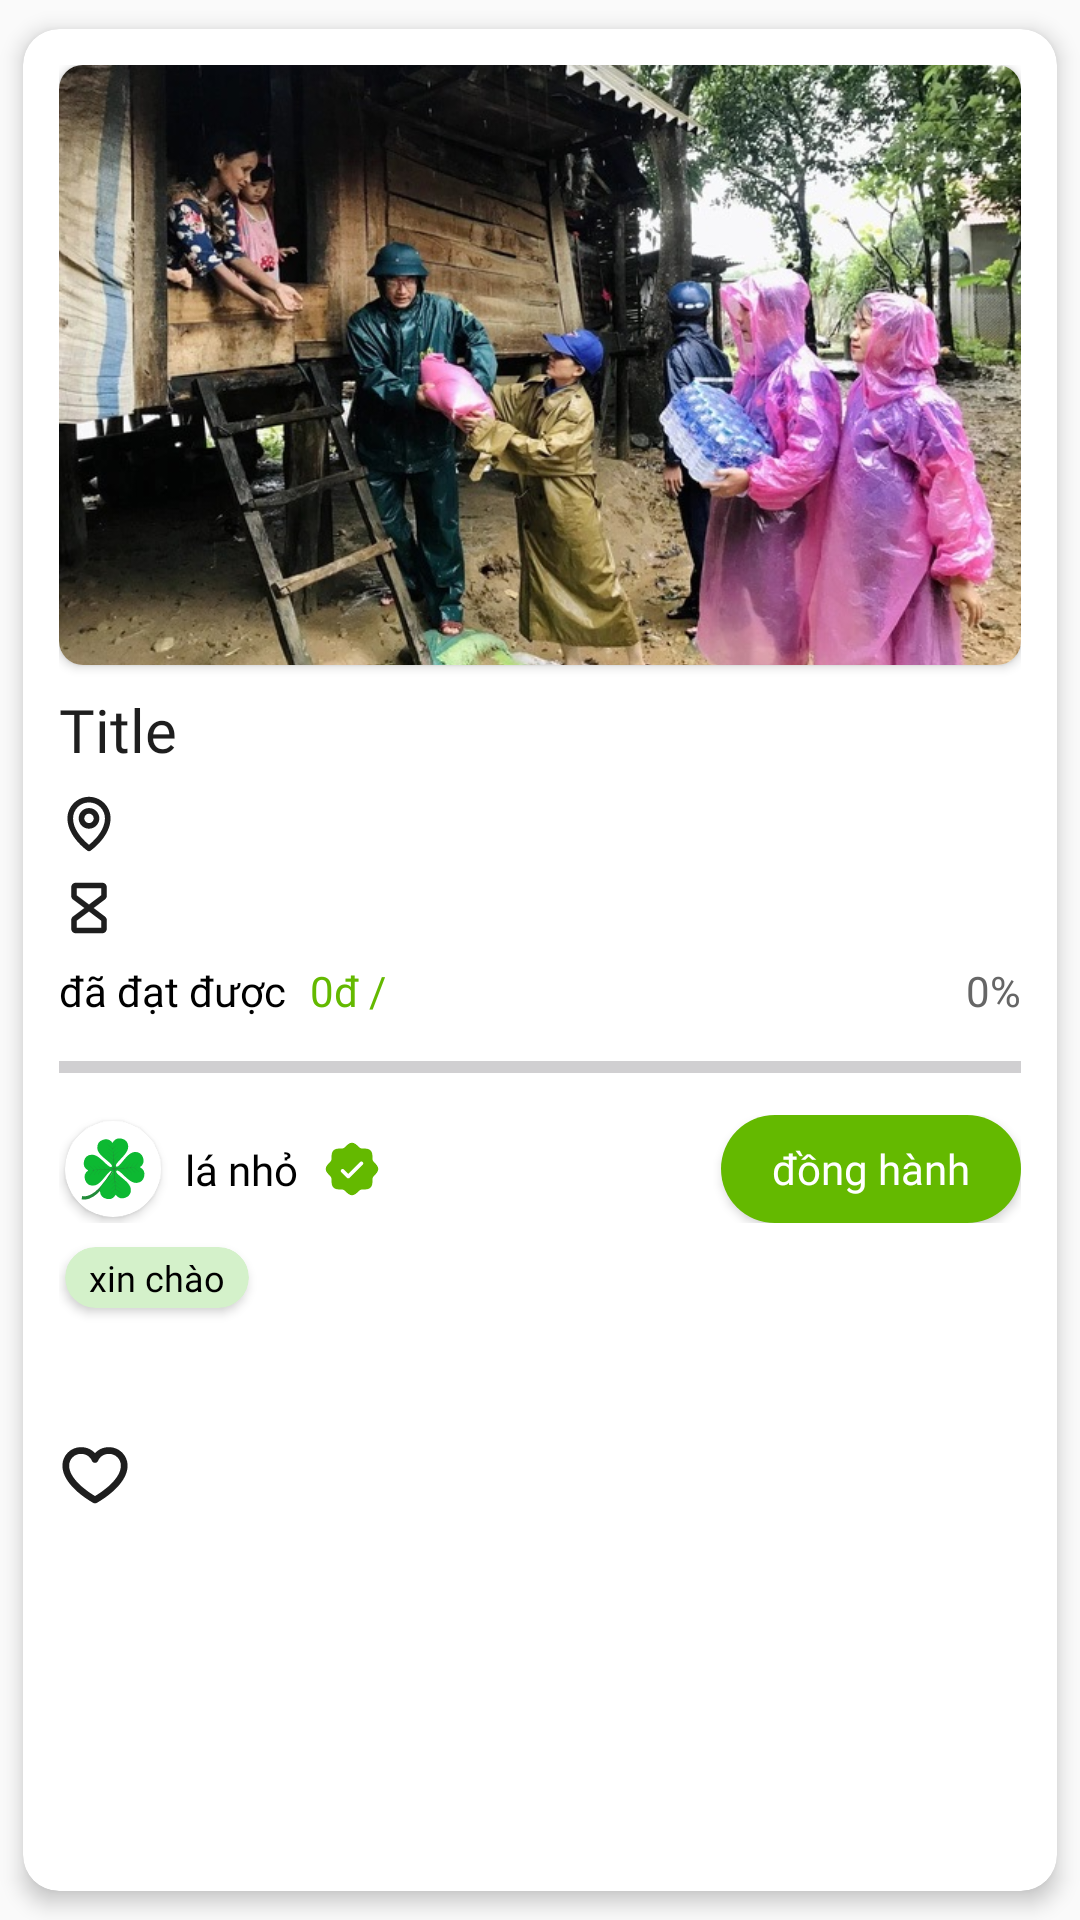

Named icons in this screenshot (1080×1920) and their bounding boxes, {"x1": x1, "y1": y1, "x2": x2, "y2": y2}:
cloversvg: {"x1": 65, "y1": 1138, "x2": 155, "y2": 1217}
heart: {"x1": 62, "y1": 1447, "x2": 128, "y2": 1504}
hourglass: {"x1": 71, "y1": 882, "x2": 107, "y2": 934}
mappin: {"x1": 67, "y1": 796, "x2": 111, "y2": 852}
sealcheck: {"x1": 325, "y1": 1142, "x2": 379, "y2": 1196}
